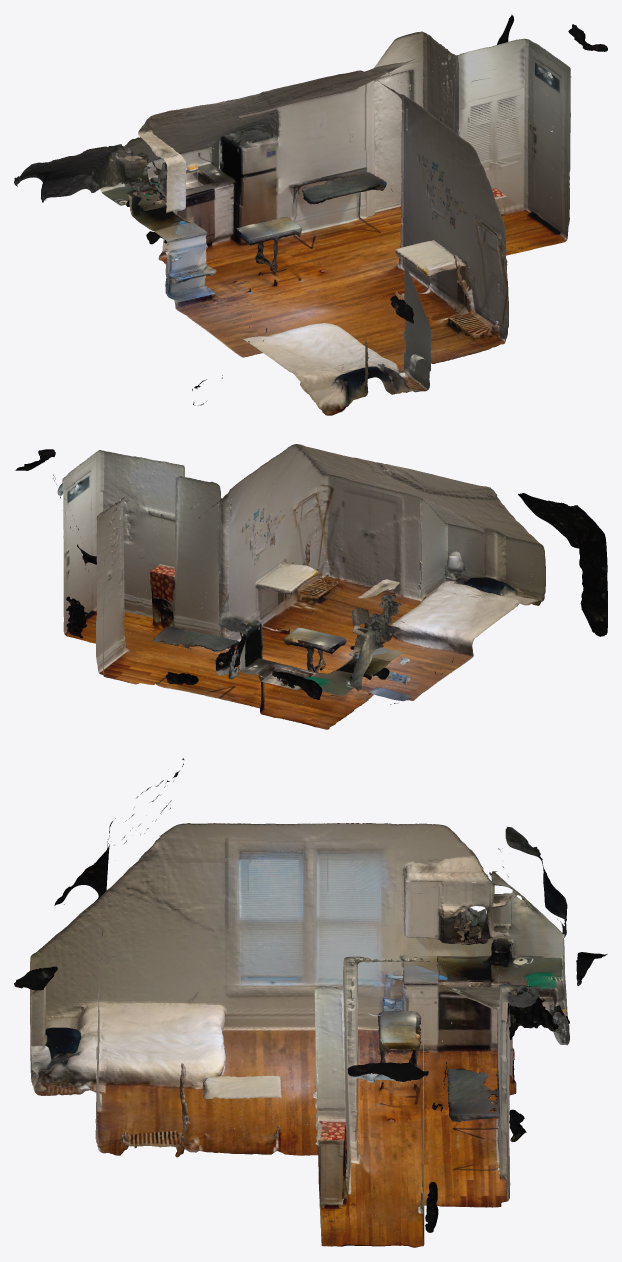
Rendered from scan-0733e192069c.glb.
The picture shows the model from 3 angles, top to bottom: view 1: azimuth 30°, elevation 25°; view 2: azimuth 150°, elevation 25°; view 3: azimuth 270°, elevation 25°; orthographic projection. The views are drawn at different scales.
Parts seen in each view (by area): view 1: toSpace; view 2: toSpace; view 3: toSpace.
Boxes of the visible parts, x1,y1,x2,y2 form: toSpace: [14, 14, 607, 415]; toSpace: [15, 444, 607, 729]; toSpace: [14, 758, 607, 1247].
Bounding box in the file's own units: 8.05 × 2.78 × 6.66.
Materials: 3 (3 with a texture image).
